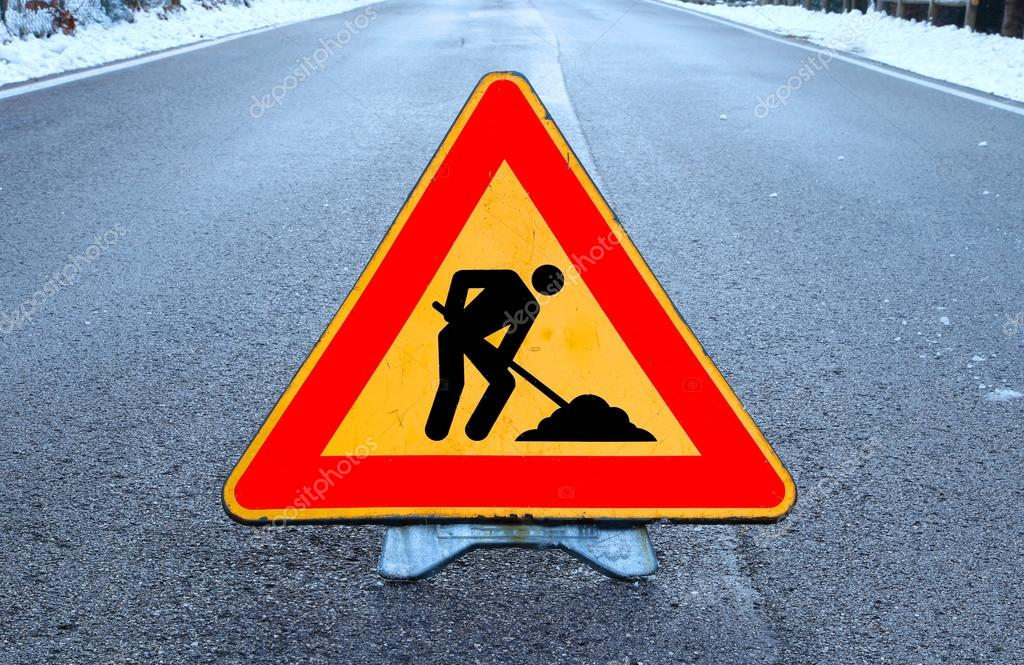caution: (221, 67, 797, 524)
